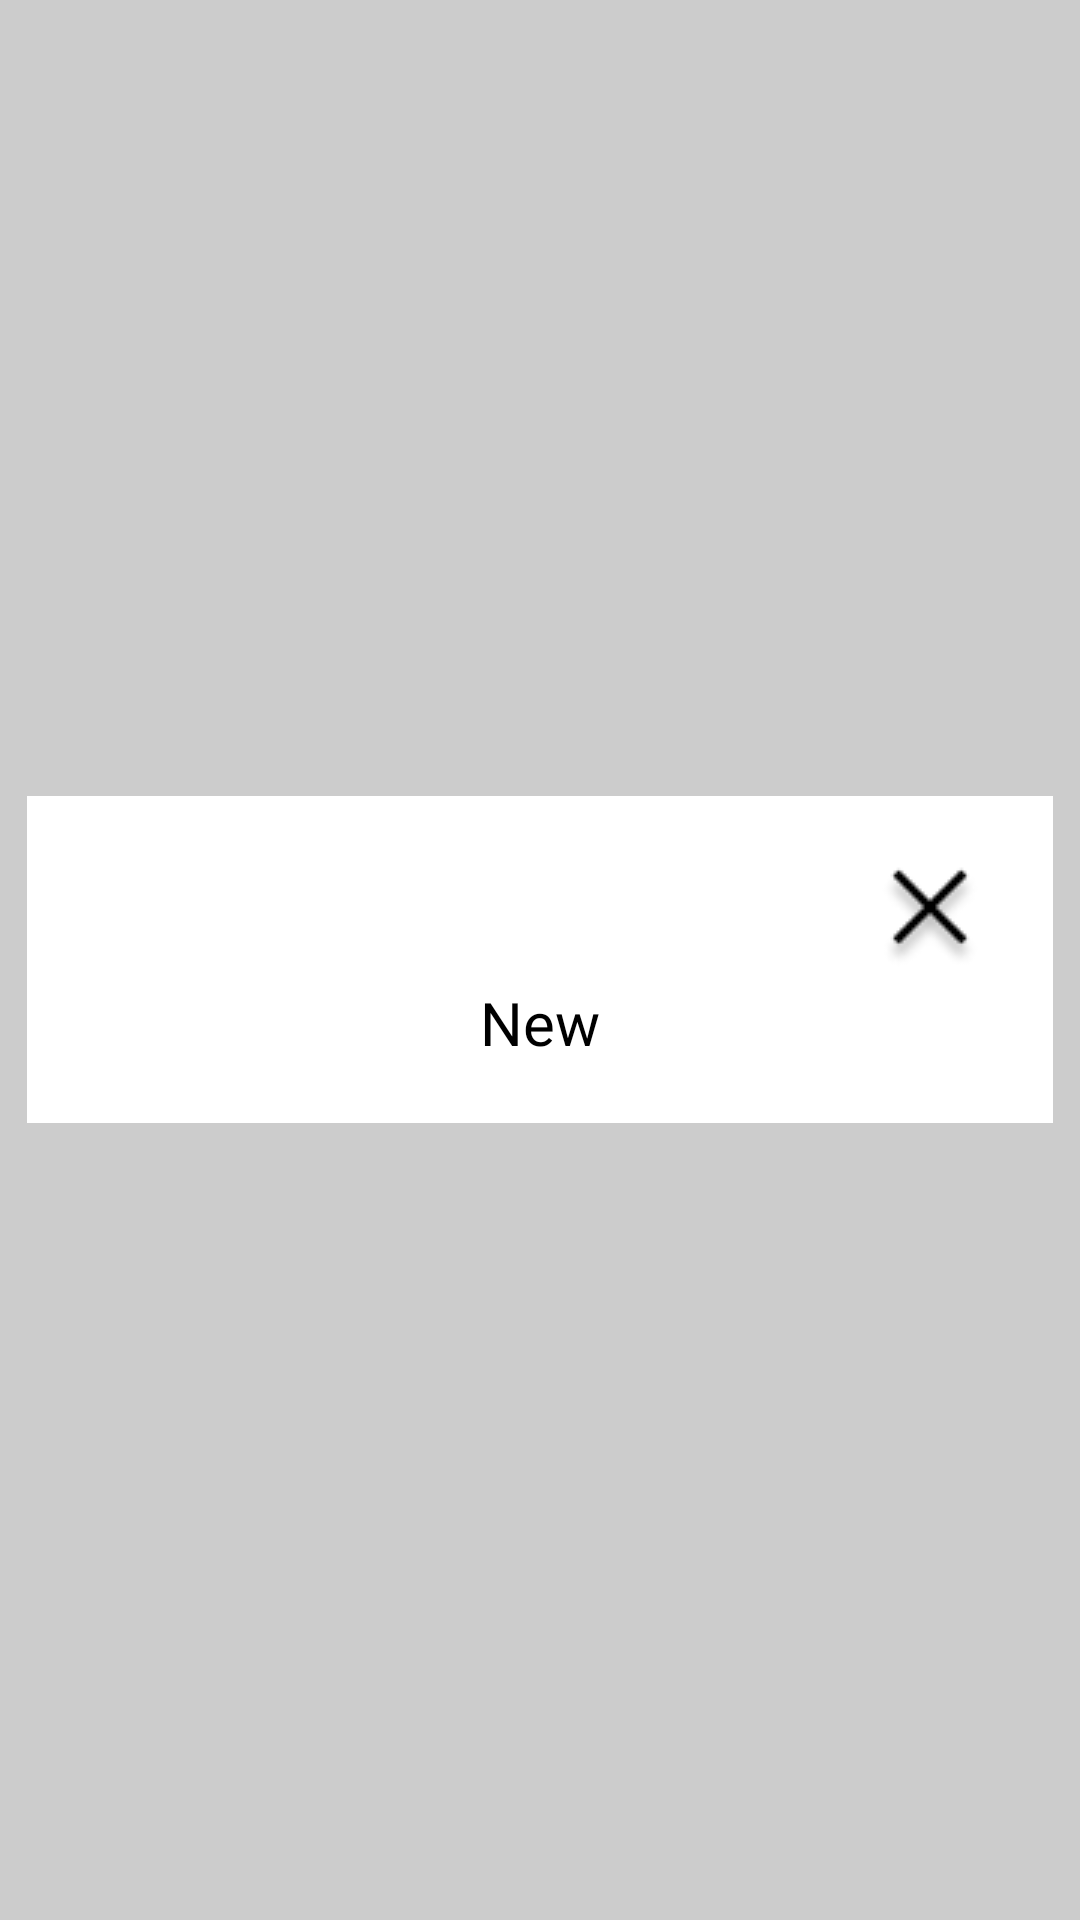

Where to tap for icons on this 1080 × 1920 app screen, as [x,y]:
close: [930,911]
